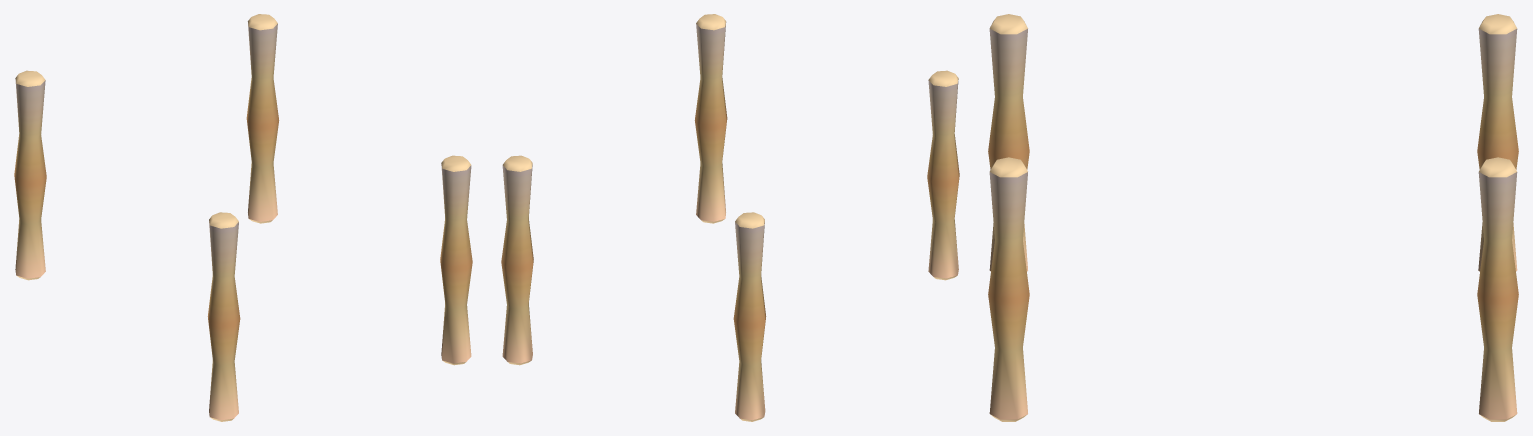
The model's file is Bamboo_Construction_02.glb.
3 renders of one model, left to right at view 1: azimuth 30°, elevation 25°; view 2: azimuth 150°, elevation 25°; view 3: azimuth 270°, elevation 25°, orthographic. The views are drawn at different scales.
Visible parts, largest first — view 1: Bamboo_Construction_02; view 2: Bamboo_Construction_02; view 3: Bamboo_Construction_02.
Boxes of the visible parts, box(x1,y1,x2,y2) form: Bamboo_Construction_02: box(14, 14, 472, 421); Bamboo_Construction_02: box(501, 14, 959, 421); Bamboo_Construction_02: box(988, 14, 1518, 421).
Size of the model in its own units: 2.24 by 1.64 by 3.13.
Materials: 1 (1 with a texture image).
